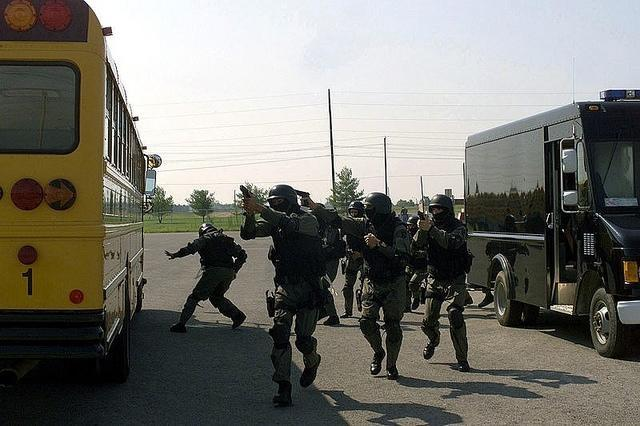bus: (0, 1, 163, 379)
truck: (464, 89, 640, 359)
